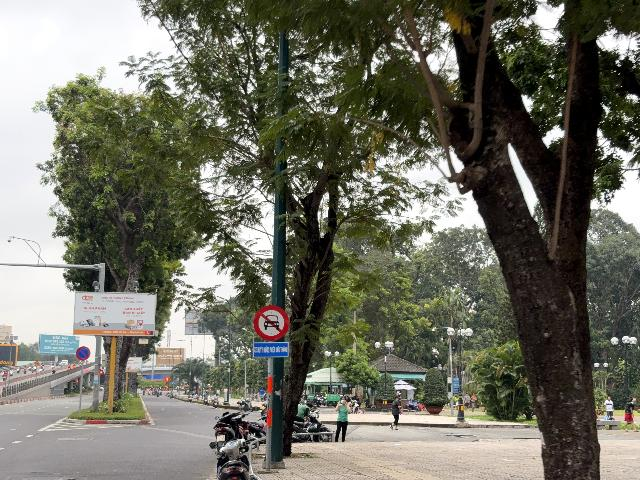cam-o-to: (254, 305, 289, 341)
